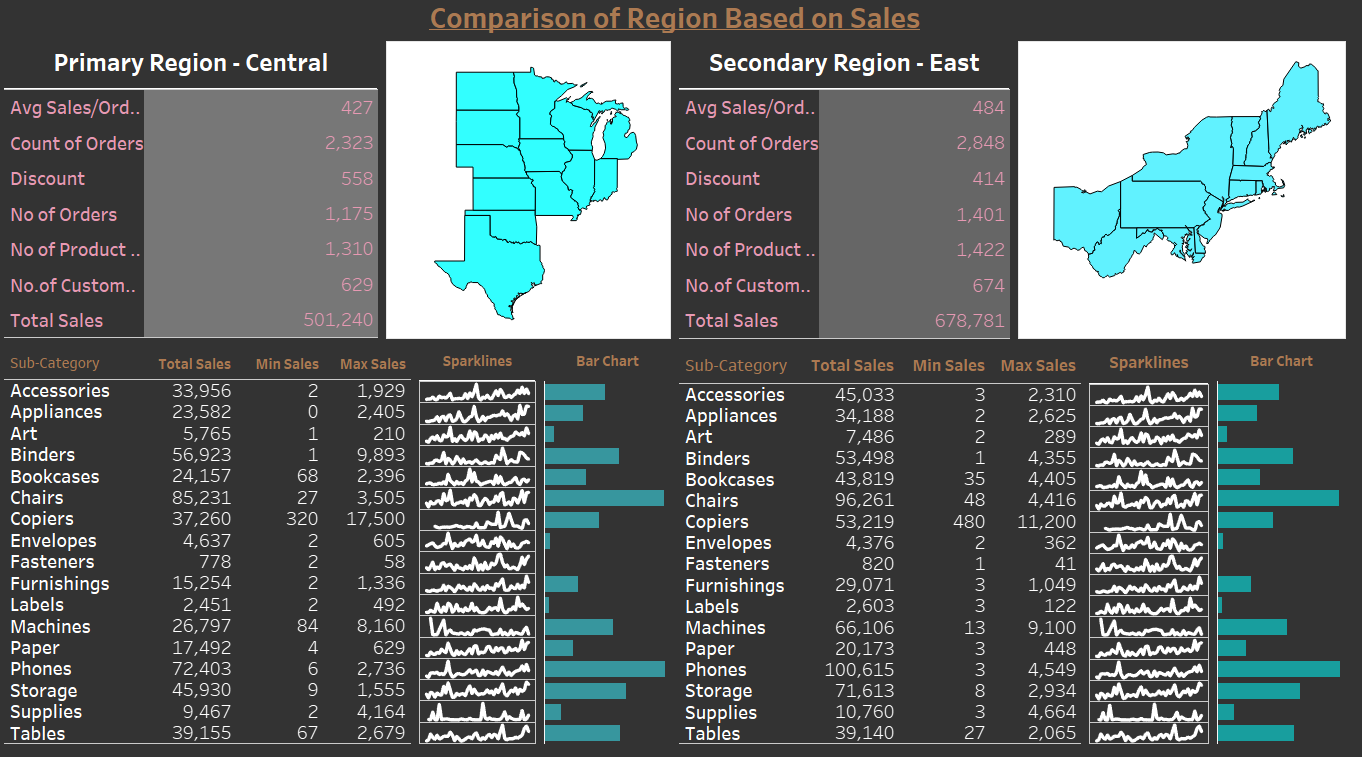

The dashboard page shown, as its layout file describes it:
{"tool":"tableau","page":{"name":"Dashboard 1","canvas":[1366,768],"ordinal":0},"visuals":[{"type":"text","box":[8,8,1350,41]},{"type":"worksheet","title":"Central Table","mark":"Automatic","box":[8,49,382,306]},{"type":"worksheet","title":"Central Map","mark":"Multipolygon","box":[390,49,293,306]},{"type":"worksheet","title":"East table","mark":"Automatic","box":[683,49,339,306]},{"type":"worksheet","title":"East Map","mark":"Multipolygon","box":[1022,49,336,306]},{"type":"worksheet","title":"Central Subcatergory","mark":"Automatic","rows":["Sub-Category"],"box":[8,355,415,405]},{"type":"worksheet","title":"Sheet 1","mark":"Automatic","rows":["Sub-Category","Sales"],"cols":["Order Date"],"box":[423,355,125,405]},{"type":"worksheet","title":"SubCatergory Bar chart 1","mark":"Bar","rows":["Sub-Category"],"cols":["Sales"],"box":[548,355,135,405]},{"type":"worksheet","title":"East Subcatergory","mark":"Automatic","rows":["Sub-Category"],"box":[683,355,410,405]},{"type":"worksheet","title":"Sparkline","mark":"Automatic","rows":["Sub-Category","Sales"],"cols":["Order Date"],"box":[1093,355,128,405]},{"type":"worksheet","title":"SubCategory Bar chart 2","mark":"Bar","rows":["Sub-Category"],"cols":["Sales"],"box":[1221,355,137,405]}]}

Visuals, with their boxes in screenshot pixels (x1, y1, x2, y2), scaled from the page's 1366x768 canvas onto the 1362x757 screenshot:
text: bbox(8, 8, 1354, 48)
"Central Table" worksheet: bbox(8, 48, 389, 350)
"Central Map" worksheet (Multipolygon marks): bbox(389, 48, 681, 350)
"East table" worksheet: bbox(681, 48, 1019, 350)
"East Map" worksheet (Multipolygon marks): bbox(1019, 48, 1354, 350)
"Central Subcatergory" worksheet: bbox(8, 350, 422, 749)
"Sheet 1" worksheet: bbox(422, 350, 546, 749)
"SubCatergory Bar chart 1" worksheet (Bar marks): bbox(546, 350, 681, 749)
"East Subcatergory" worksheet: bbox(681, 350, 1090, 749)
"Sparkline" worksheet: bbox(1090, 350, 1217, 749)
"SubCategory Bar chart 2" worksheet (Bar marks): bbox(1217, 350, 1354, 749)
